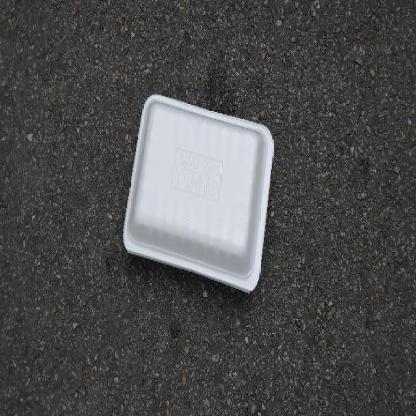Glass Cup: (122, 92, 274, 294), (123, 94, 273, 292)
